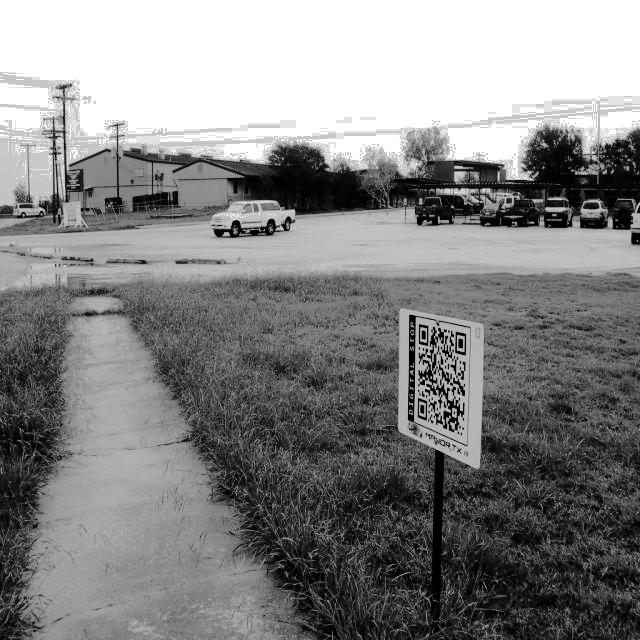qr_code: (418, 324, 466, 437)
